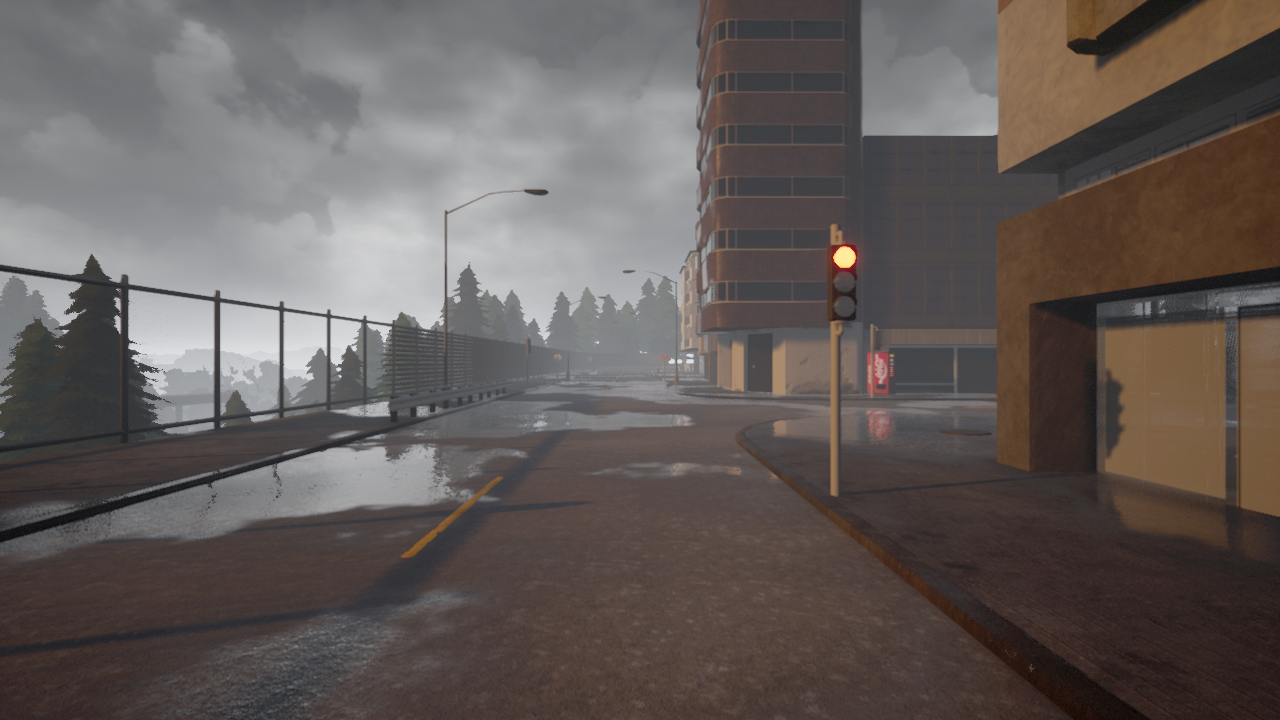red: (829, 242, 858, 322)
